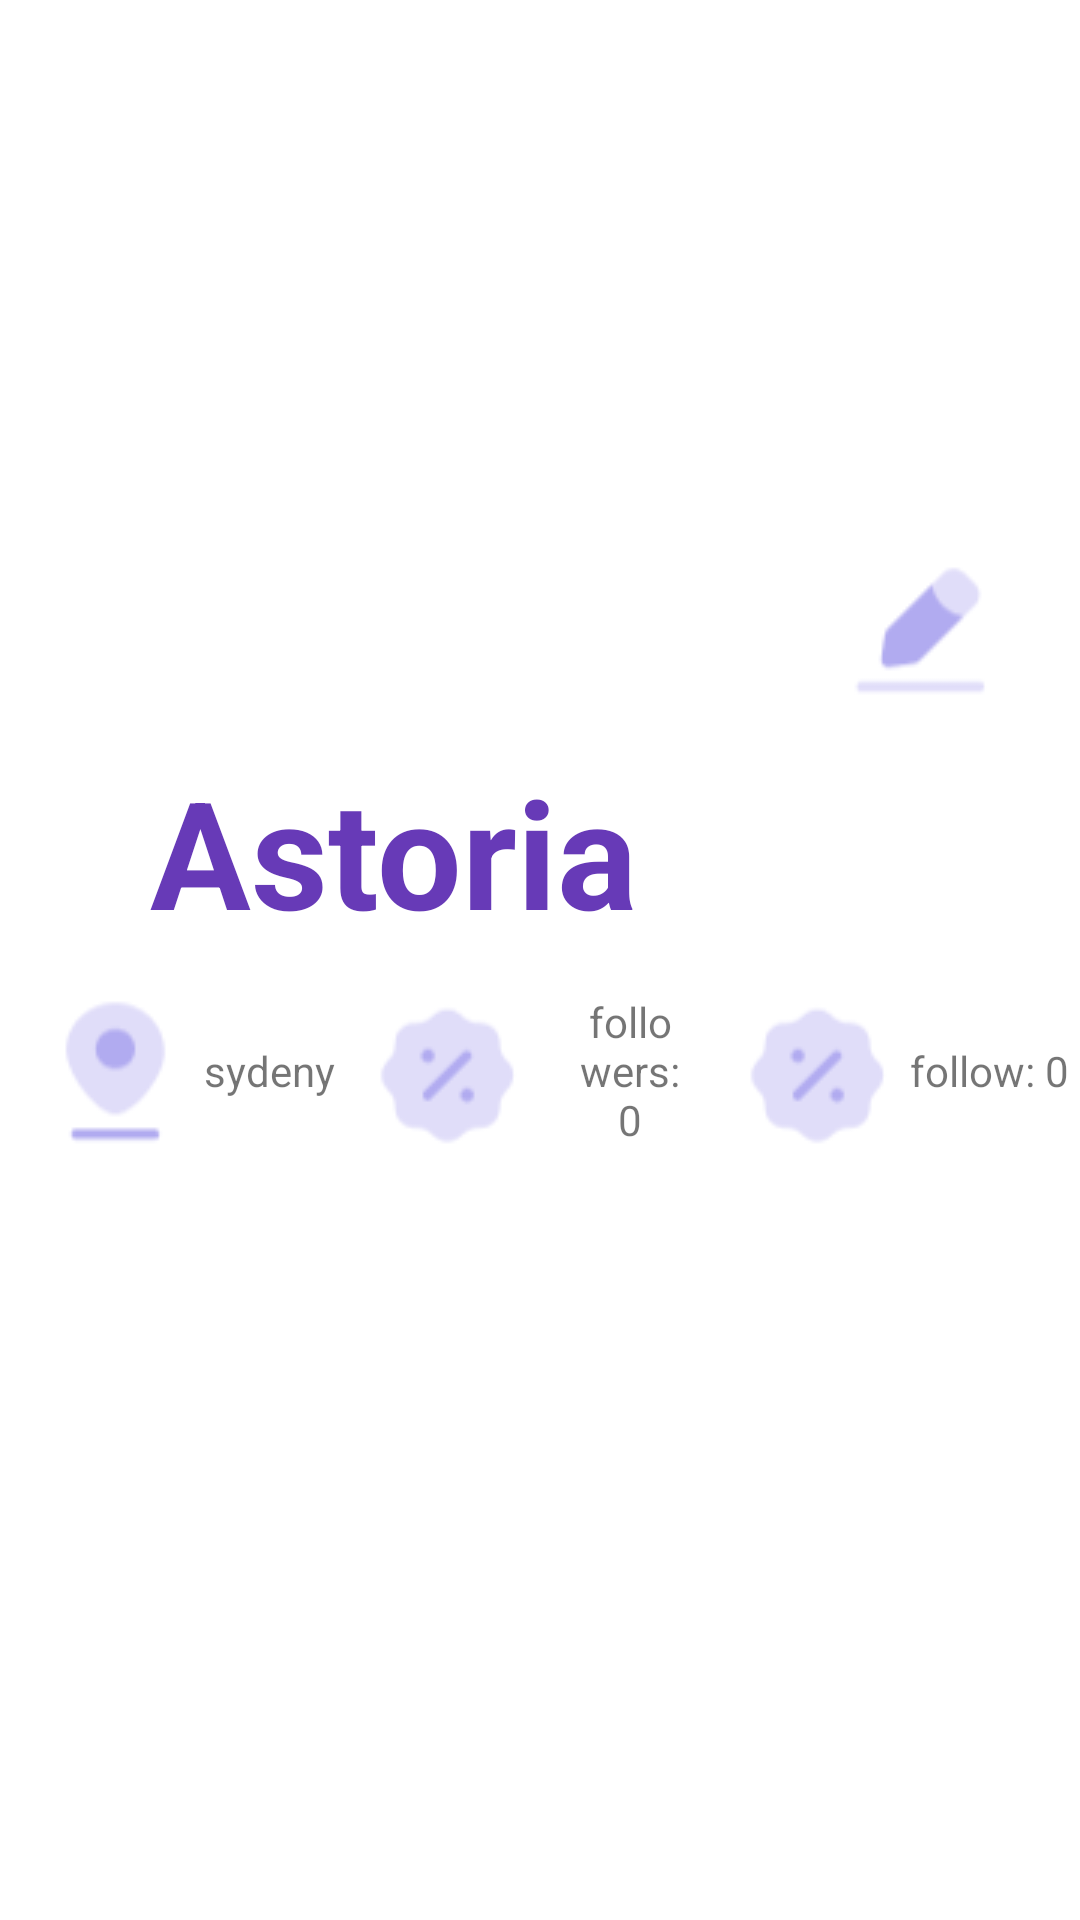

Screen size 1080w x 1920h. Icon name, then its box in pixels as [x1,y1,x2,y2]:
modify: [858,570,983,690]
